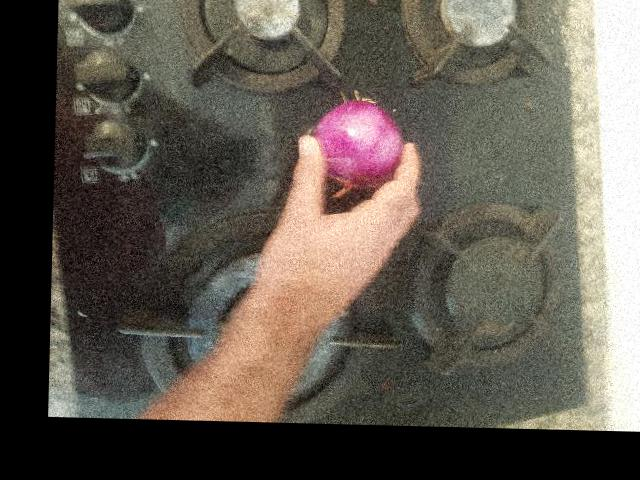onion: (436, 26, 532, 138)
